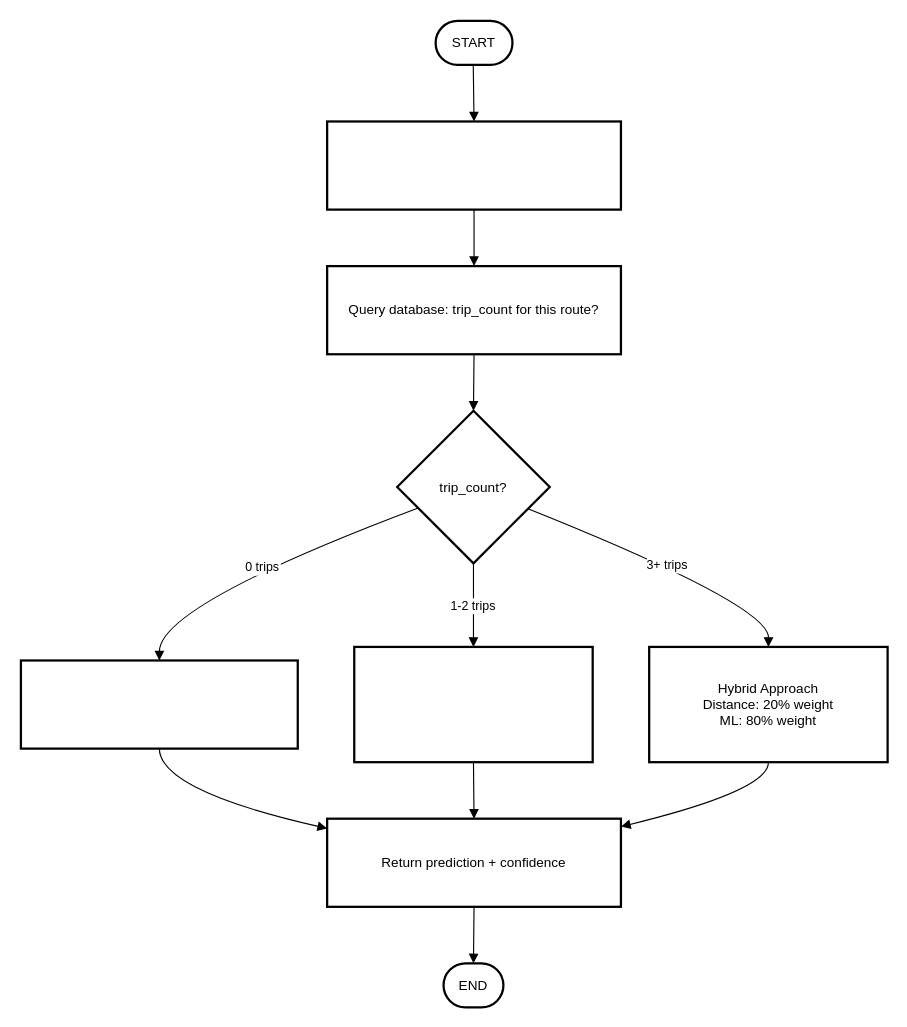
The diagram is 907 pixels wide and 1027 high, and some of its shapes have lost their labels. The shapes that lost their labels are listed below. From the top down, each one's box as (x1, y1, x2, y2) in pixels, then its label:
(325, 120, 621, 210): Get from_location and to_location
(19, 659, 298, 749): Method 1: Distance-Based Confidence: 60%
(353, 645, 593, 763): Hybrid Approach Distance: 60% weight ML: 40% weight
